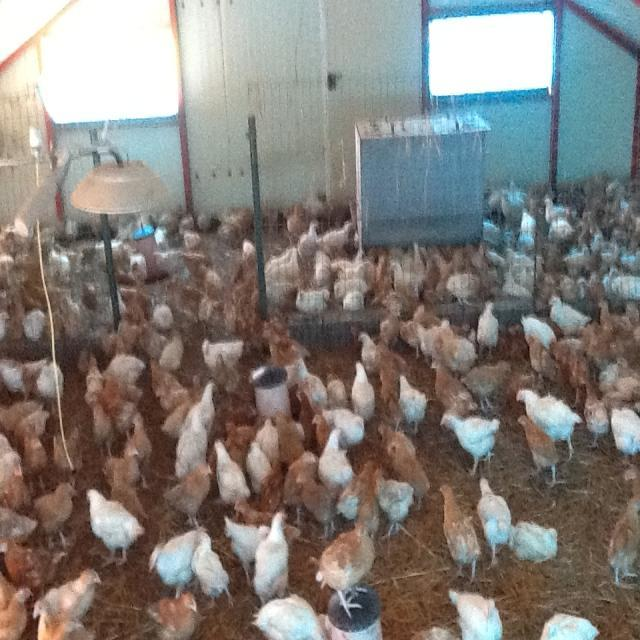poussin: (313, 522, 375, 618), (514, 387, 582, 461), (376, 422, 431, 512), (84, 487, 142, 571), (438, 410, 501, 478), (437, 483, 483, 575), (0, 536, 67, 595), (512, 414, 564, 490), (190, 532, 238, 612), (476, 477, 518, 568), (146, 530, 203, 596), (254, 592, 332, 640), (147, 364, 200, 434), (251, 510, 289, 605), (86, 376, 139, 442), (162, 462, 211, 528), (40, 566, 102, 618), (295, 472, 342, 540), (374, 336, 412, 420), (225, 516, 270, 586), (233, 497, 300, 542), (340, 462, 380, 536), (448, 587, 502, 640), (36, 481, 78, 548), (430, 360, 478, 418), (371, 472, 413, 538), (608, 500, 640, 586), (462, 359, 512, 414), (170, 409, 208, 481), (212, 438, 250, 509), (102, 446, 144, 509), (146, 592, 200, 640), (16, 419, 50, 492), (32, 600, 94, 640), (0, 504, 43, 558), (506, 522, 560, 563), (262, 322, 310, 366), (0, 429, 25, 511), (318, 429, 352, 489), (582, 382, 610, 454), (282, 452, 316, 510), (0, 396, 51, 434), (182, 284, 226, 328), (396, 372, 428, 432), (436, 330, 478, 375), (418, 318, 453, 372), (124, 412, 151, 482), (188, 381, 218, 444), (83, 354, 146, 384), (566, 350, 598, 408), (610, 407, 640, 468), (524, 333, 560, 383), (538, 611, 600, 640), (214, 298, 261, 336), (1, 586, 33, 640), (52, 430, 82, 485), (351, 362, 378, 422), (0, 360, 45, 396), (95, 320, 140, 356), (548, 296, 590, 334), (422, 250, 452, 302), (89, 398, 115, 456), (199, 337, 246, 368), (274, 412, 306, 457), (245, 441, 273, 492), (266, 244, 300, 286), (476, 301, 500, 360), (586, 319, 615, 366), (324, 408, 364, 442), (390, 252, 420, 296), (518, 314, 556, 348), (216, 208, 250, 246), (39, 358, 69, 401), (296, 370, 328, 410), (543, 272, 588, 300), (58, 298, 91, 336), (332, 280, 368, 314), (403, 306, 427, 356), (595, 298, 630, 332), (446, 270, 478, 306), (320, 220, 354, 252), (619, 359, 640, 409), (603, 268, 640, 296), (323, 368, 348, 409), (476, 244, 498, 290), (16, 250, 40, 292), (497, 184, 523, 222), (152, 248, 185, 277), (334, 253, 369, 280), (548, 336, 584, 362), (295, 288, 331, 314), (258, 417, 278, 463), (502, 272, 532, 302), (502, 231, 535, 258), (517, 255, 546, 284), (358, 332, 379, 372), (312, 411, 330, 457), (594, 231, 619, 264), (90, 238, 121, 264), (297, 222, 319, 258), (48, 249, 76, 277), (373, 254, 390, 300), (286, 355, 310, 387), (378, 304, 398, 342), (604, 180, 623, 220), (597, 362, 622, 392), (23, 307, 45, 340), (621, 207, 640, 245), (160, 336, 181, 370), (565, 244, 589, 272), (575, 218, 599, 246), (544, 197, 569, 222), (315, 249, 332, 283), (548, 219, 573, 241), (520, 209, 538, 237), (151, 306, 172, 330), (132, 254, 146, 288), (588, 269, 602, 300), (155, 212, 174, 232), (173, 212, 194, 230), (182, 230, 202, 248), (0, 310, 10, 342), (4, 254, 12, 292), (157, 229, 170, 251), (196, 211, 212, 227)
